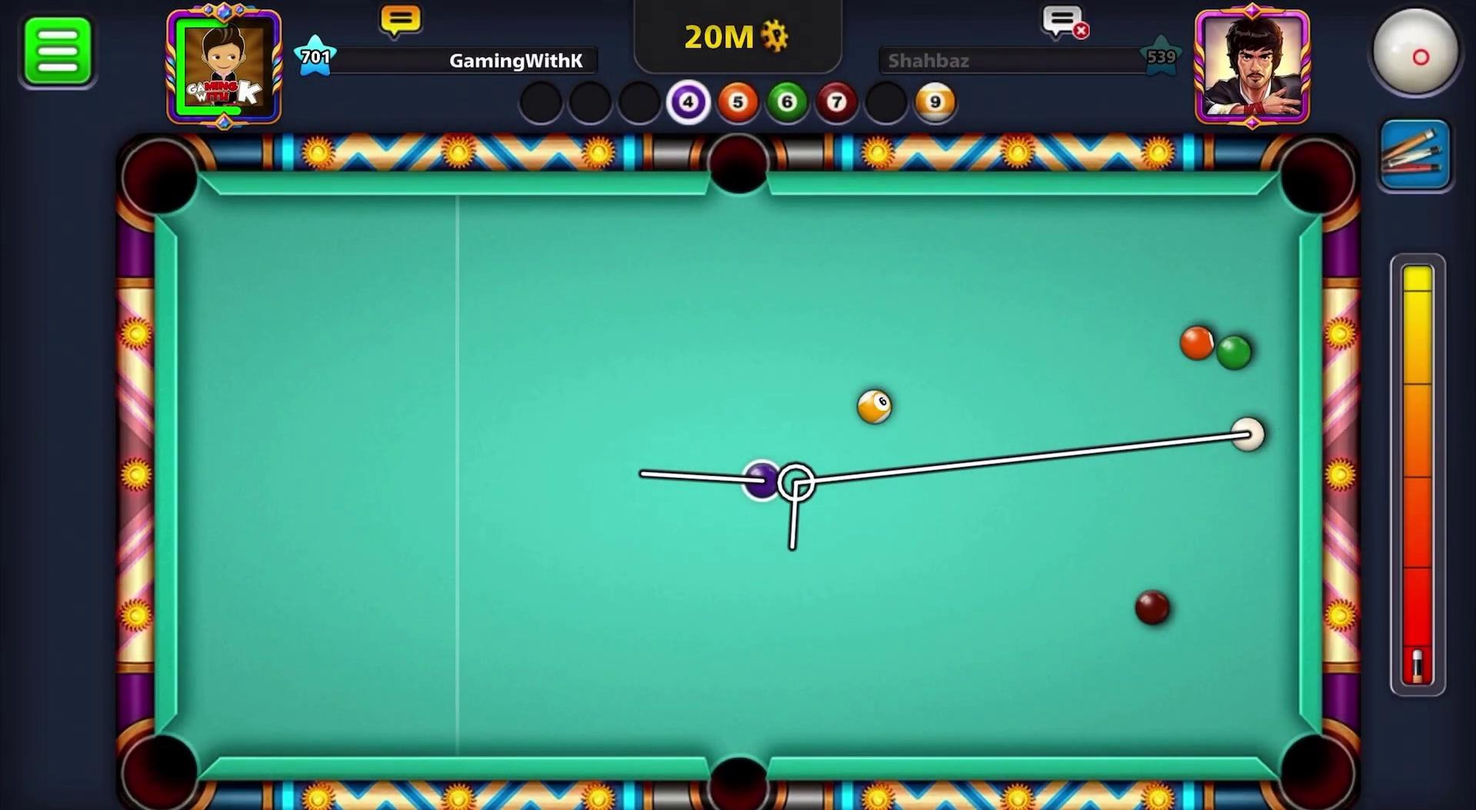Ball: (845, 381, 903, 433), (1130, 585, 1178, 633), (1175, 320, 1221, 365), (738, 458, 785, 500)
Force: (1385, 251, 1453, 699)
Guideline: (637, 419, 1265, 550)
Hole: (108, 129, 213, 230), (1269, 129, 1365, 231), (1267, 714, 1364, 808), (112, 722, 209, 809), (685, 738, 786, 809), (701, 124, 776, 203)
Play_Area: (182, 193, 1305, 760)
Spin: (1341, 0, 1475, 115)
White: (1228, 409, 1277, 458)
